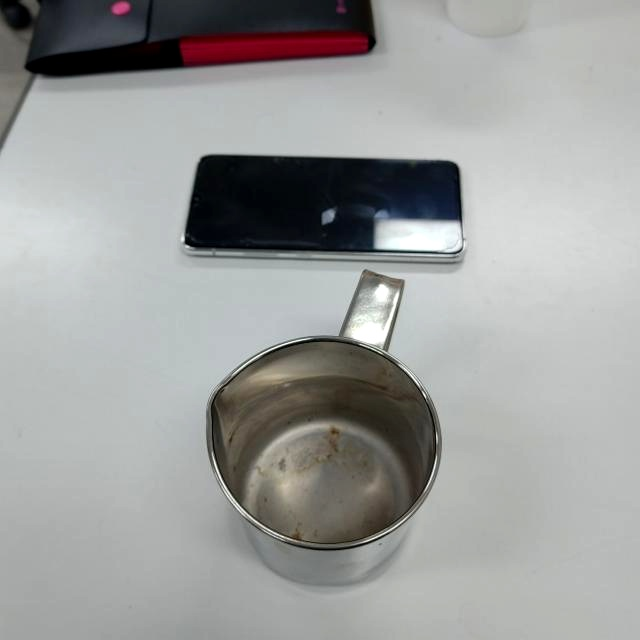cup: (206, 266, 446, 588)
phone: (182, 153, 465, 263)
